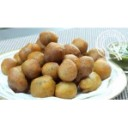bonda: (7, 67, 28, 93), (30, 75, 54, 97), (43, 41, 65, 63), (73, 54, 95, 76), (59, 59, 76, 80), (57, 82, 78, 99), (81, 74, 102, 91), (23, 59, 42, 77), (71, 37, 90, 55), (96, 59, 112, 79), (20, 44, 40, 58), (2, 57, 18, 74)
